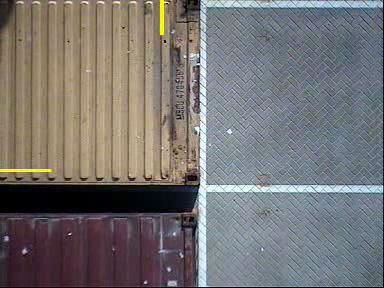groundmarker_2: (170, 222, 233, 264), (197, 45, 233, 111)
